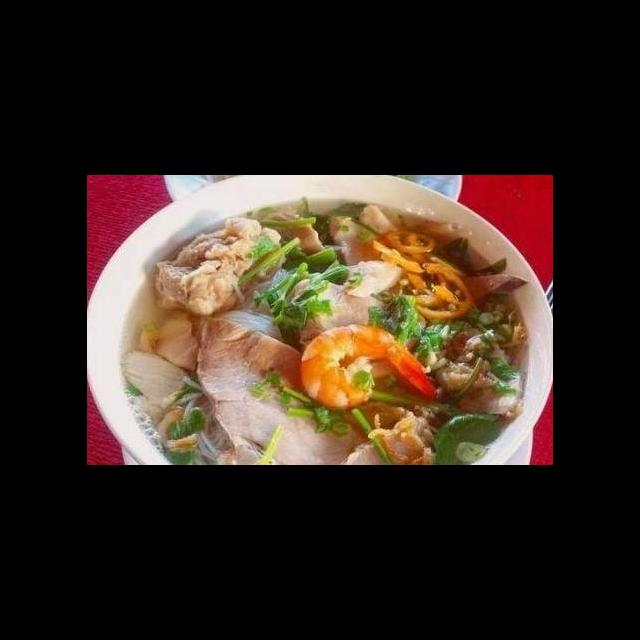thit heo: (279, 176, 450, 327), (195, 225, 344, 321), (207, 370, 337, 465), (261, 286, 355, 368)
tom: (294, 326, 442, 414)
